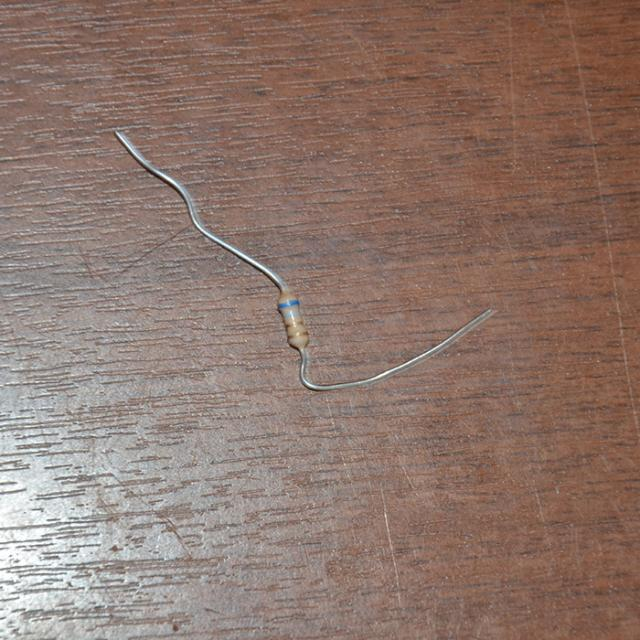blue: (277, 299, 298, 308)
gold: (286, 330, 308, 338), (285, 320, 303, 328)
grey: (283, 311, 301, 318)
resistor: (270, 275, 322, 365)
